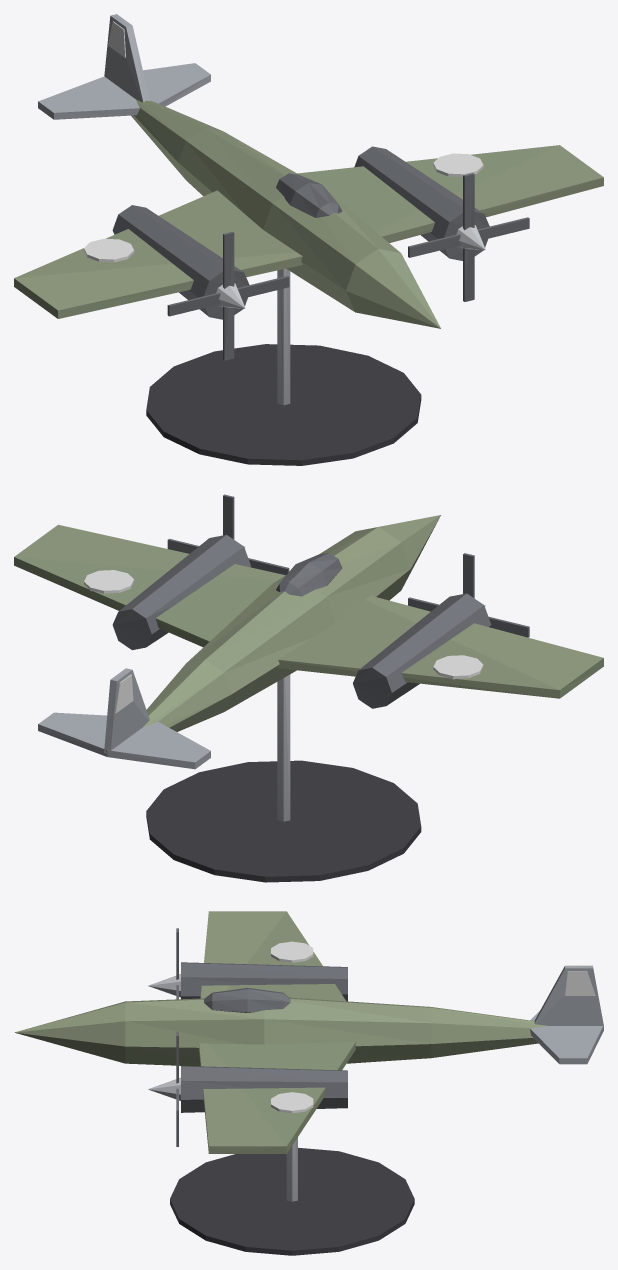
File: Bomber.glb
3 views of the same model, one above another, from view 1: azimuth 30°, elevation 25°; view 2: azimuth 150°, elevation 25°; view 3: azimuth 270°, elevation 25° (orthographic). The views are drawn at different scales.
Visible parts, largest first — view 1: Body; view 2: Body; view 3: Body.
Boxes of the visible parts, x1,y1,x2,y2 form: Body: (14,14,603,465); Body: (14,494,603,882); Body: (14,911,603,1255).
Bounding box in the file's own units: 1 × 0.47 × 1.06.
